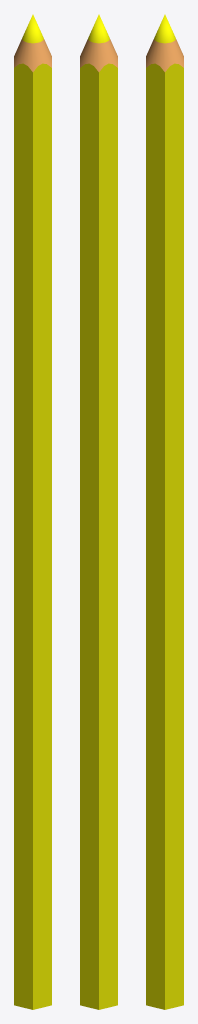
The model's file is potlood-geel.fbx.
3 renders of one model, left to right at view 1: azimuth 30°, elevation 25°; view 2: azimuth 210°, elevation 25°; view 3: azimuth 270°, elevation 25°, orthographic.
Parts seen in each view (by area): view 1: Model; view 2: Model; view 3: Model.
Part boxes in pixels (x1=…): Model: x1=14, y1=14, x2=51, y2=1009; Model: x1=80, y1=14, x2=117, y2=1009; Model: x1=146, y1=14, x2=183, y2=1009.
Size of the model in its own units: 80 by 2000 by 69.28.
